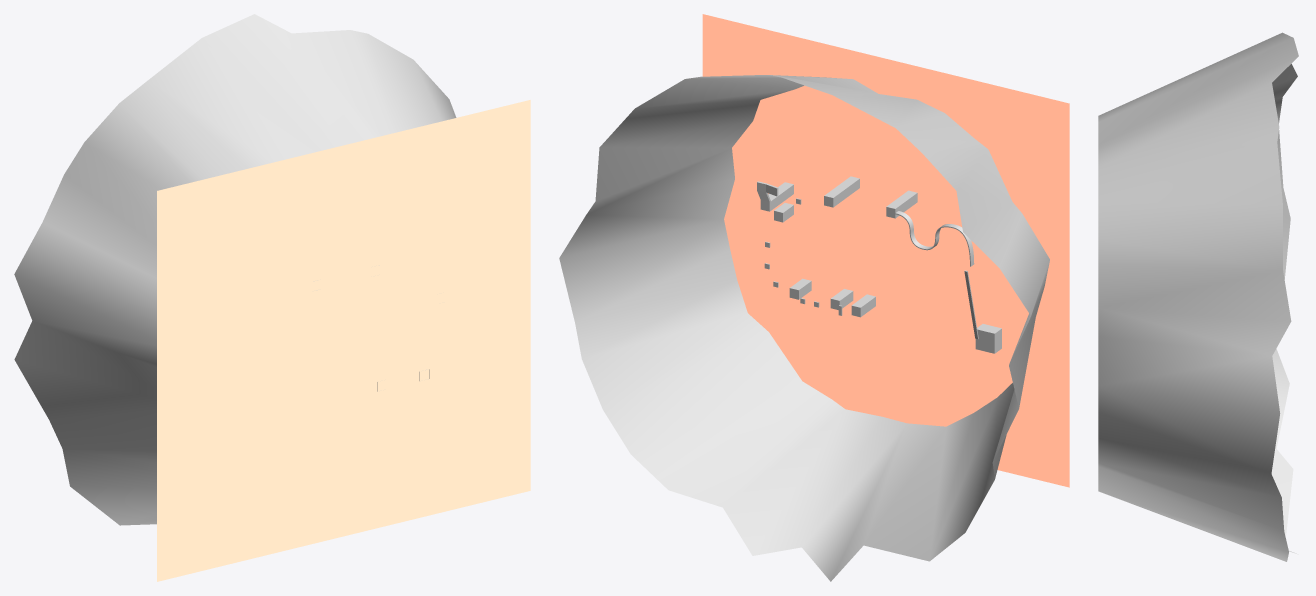
Rendered from Map9.dae.
3 views of the same model, side by side, from view 1: azimuth 30°, elevation 25°; view 2: azimuth 150°, elevation 25°; view 3: azimuth 270°, elevation 25° (orthographic).
Parts seen in each view (by area): view 1: Lava1, Rock2; view 2: Rock2, Lava1, Brick2, Brick, Marble; view 3: Rock2.
Part boxes in pixels (left/top/right/bottom): Lava1: left=157, top=100, right=530, bottom=581; Rock2: left=14, top=14, right=456, bottom=525; Rock2: left=559, top=75, right=1049, bottom=581; Lava1: left=702, top=14, right=1069, bottom=487; Brick2: left=757, top=176, right=978, bottom=338; Brick: left=757, top=182, right=977, bottom=339; Marble: left=975, top=324, right=1001, bottom=353; Rock2: left=1098, top=32, right=1298, bottom=561.
Bounding box in the file's own units: 825 × 306 × 835.
